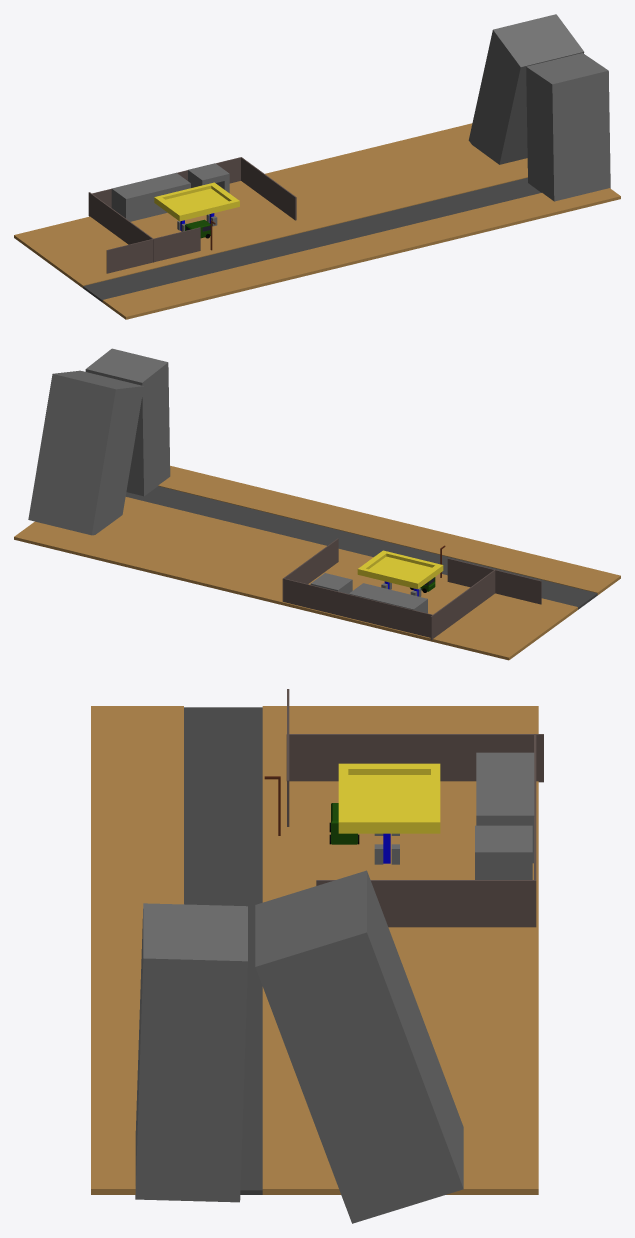
Rendered from fase1base.fbx.
3 renders of one model, top to bottom at view 1: azimuth 30°, elevation 25°; view 2: azimuth 150°, elevation 25°; view 3: azimuth 270°, elevation 25°, orthographic. The views are drawn at different scales.
Visible parts, largest first — view 1: Cube, Cube.015, Cube.014, Cube.017, Cube.013, Cube.001, Cube.020, Cube.018, Cube.021, Cube.019; view 2: Cube, Cube.014, Cube.015, Cube.019, Cube.001, Cube.017, Cube.018, Cube.020, Cube.013, Cube.021; view 3: Cube, Cube.014, Cube.015, Cube.018, Cube.020, Cube.001, Cube.013, Cube.021.
Boxes of the visible parts, x1,y1,x2,y2 form: Cube: [14, 123, 620, 319]; Cube.015: [526, 53, 610, 201]; Cube.014: [468, 14, 584, 164]; Cube.017: [106, 227, 200, 273]; Cube.013: [111, 172, 190, 221]; Cube.001: [154, 182, 239, 221]; Cube.020: [241, 157, 296, 220]; Cube.018: [88, 192, 154, 262]; Cube.021: [188, 163, 229, 193]; Cube.019: [90, 157, 240, 216]; Cube: [14, 465, 620, 660]; Cube.014: [28, 370, 143, 535]; Cube.015: [85, 348, 170, 496]; Cube.019: [284, 578, 434, 637]; Cube.001: [357, 550, 443, 589]; Cube.017: [447, 558, 541, 604]; Cube.018: [430, 569, 495, 640]; Cube.020: [282, 538, 338, 601]; Cube.013: [349, 583, 427, 613]; Cube.021: [310, 573, 352, 593]; Cube: [91, 706, 538, 1194]; Cube.014: [255, 870, 463, 1223]; Cube.015: [135, 903, 247, 1202]; Cube.018: [286, 734, 543, 782]; Cube.020: [316, 880, 536, 927]; Cube.001: [338, 763, 440, 833]; Cube.013: [476, 752, 534, 863]; Cube.021: [475, 825, 532, 879].
Bounding box in the file's own units: 123640 × 34464 × 48568.
